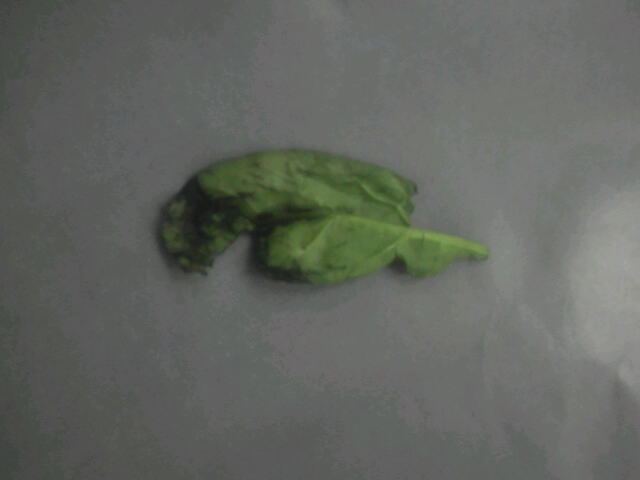yellow: (144, 132, 495, 302)
